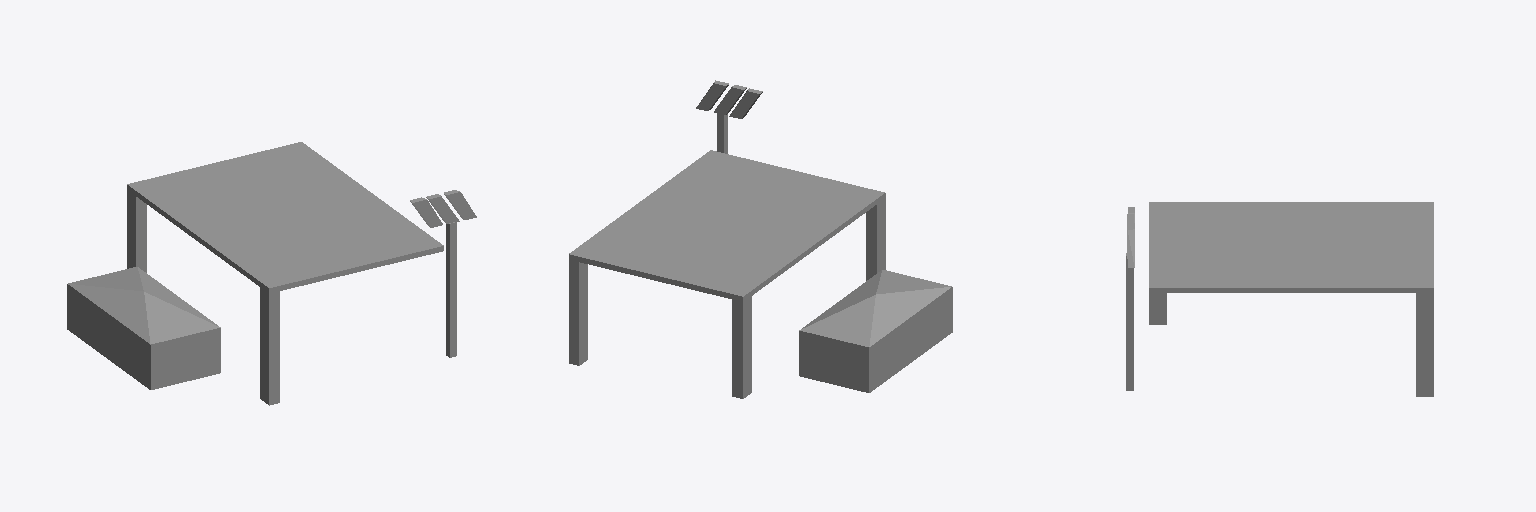
Rendered from PetrolStation.obj.
3 views of the same model, side by side, from view 1: azimuth 30°, elevation 25°; view 2: azimuth 150°, elevation 25°; view 3: azimuth 270°, elevation 25° (orthographic).
Visible parts, largest first — view 1: Cube; view 2: Cube; view 3: Cube.
Boxes of the visible parts, box(x1,y1,x2,y2) form: Cube: box(67, 142, 476, 405); Cube: box(569, 80, 952, 398); Cube: box(1126, 202, 1433, 396).
Size of the model in its own units: 13.25 by 7.77 by 12.16.